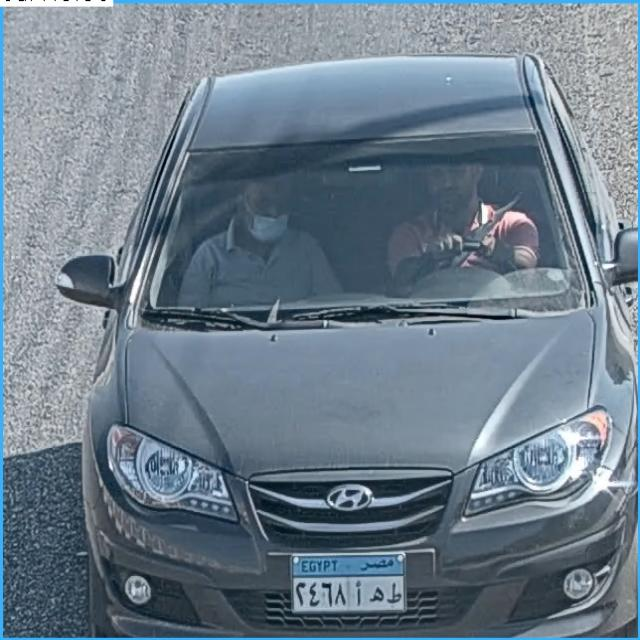windshield: (139, 148, 585, 306)
